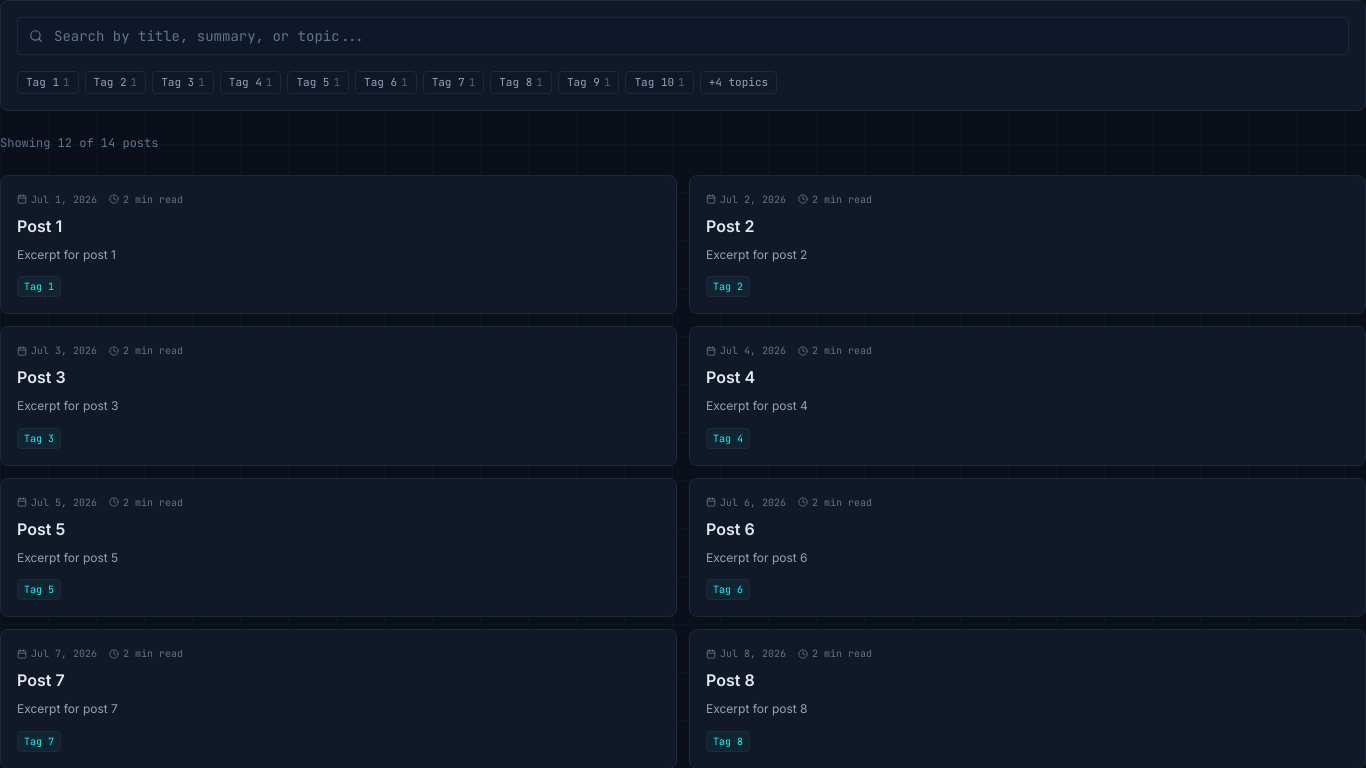
Test case: BlogIndex › matches multi-word queries regardless of word order
Type "14 Post" into the field named "Search blog posts". click: [683, 36]
box: [17,17,1349,55]
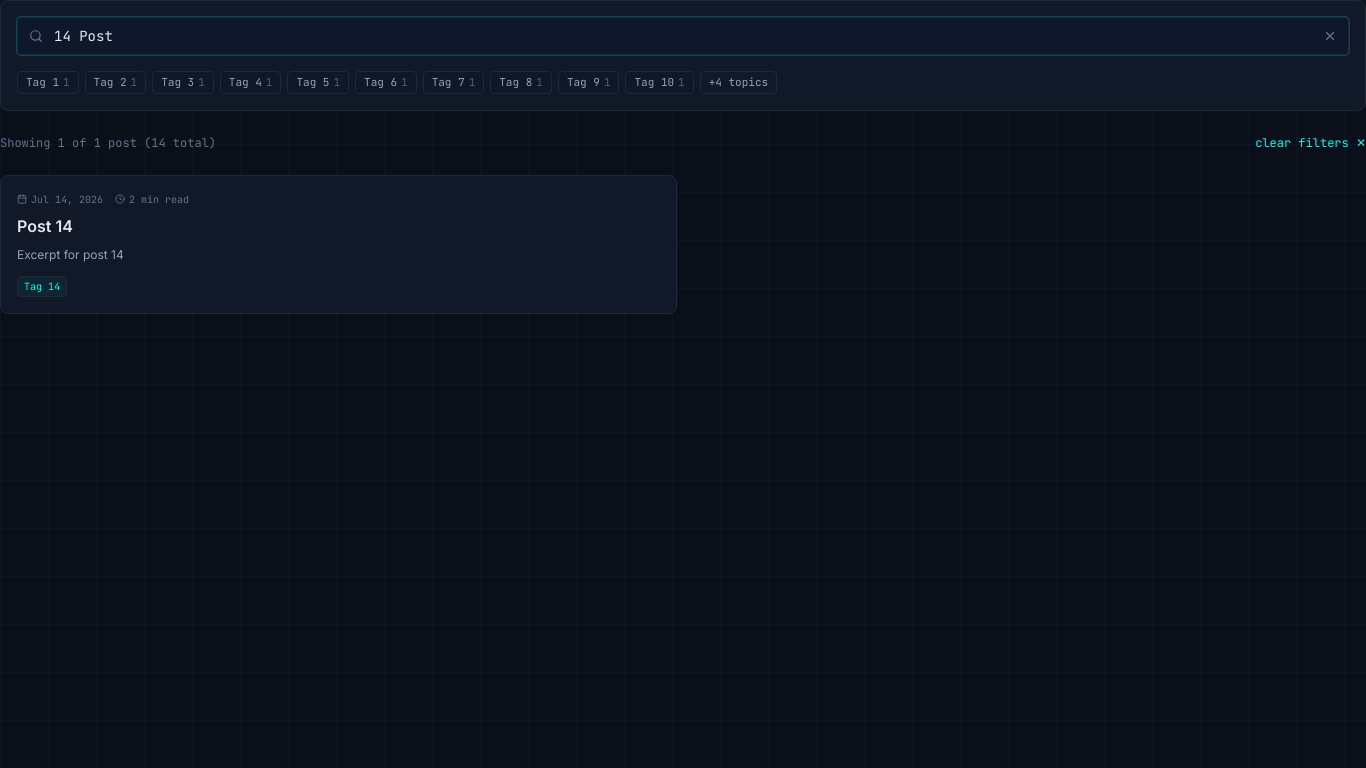
Check: the heading "Post 14" is shown, box [17,216,73,236]
